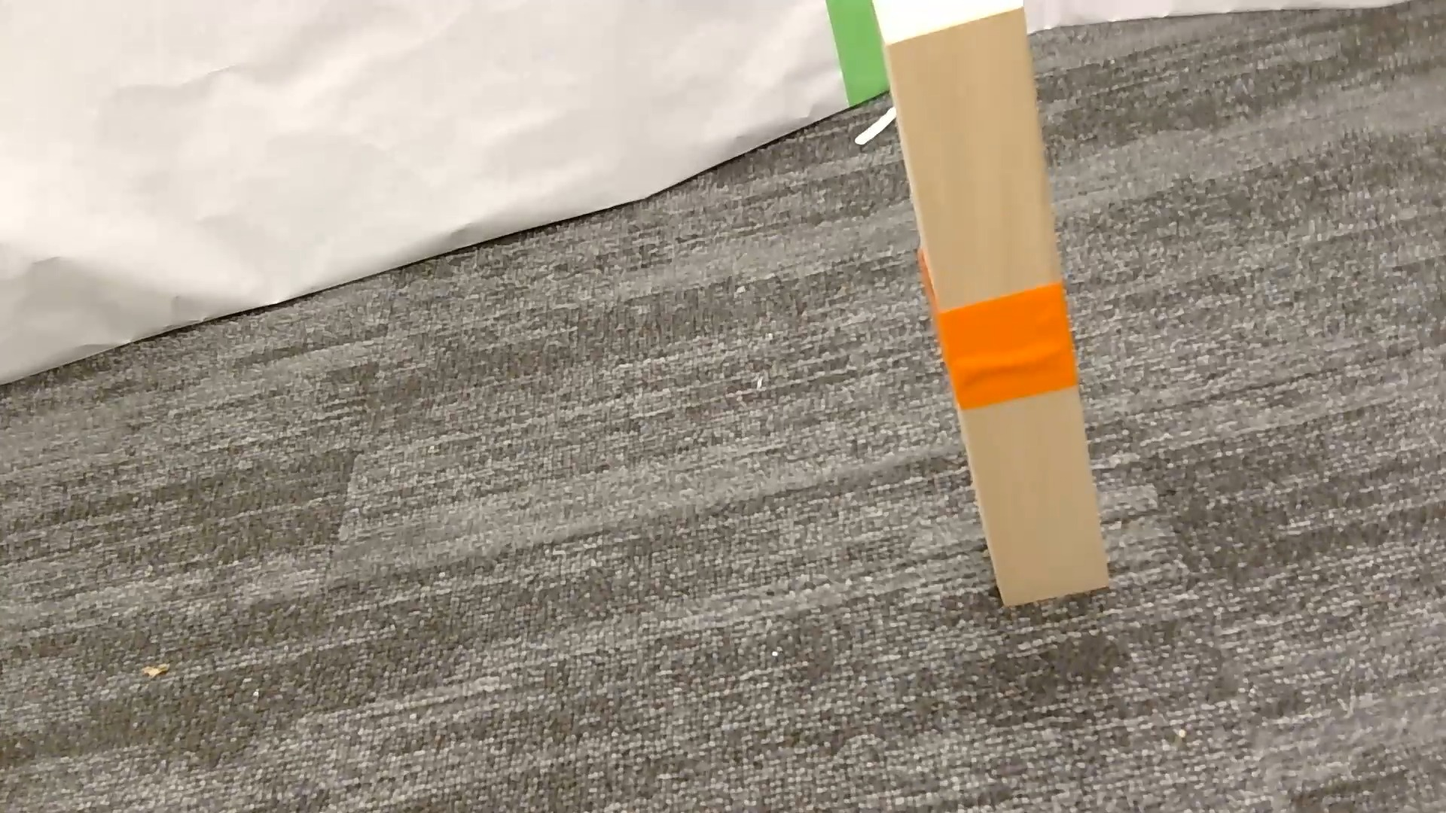Wooden Block: (879, 0, 1109, 605)
